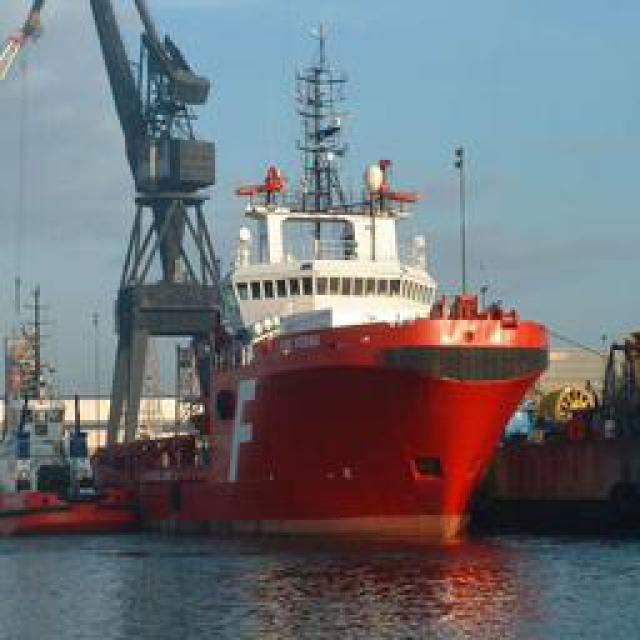Ship: (60, 39, 553, 539)
